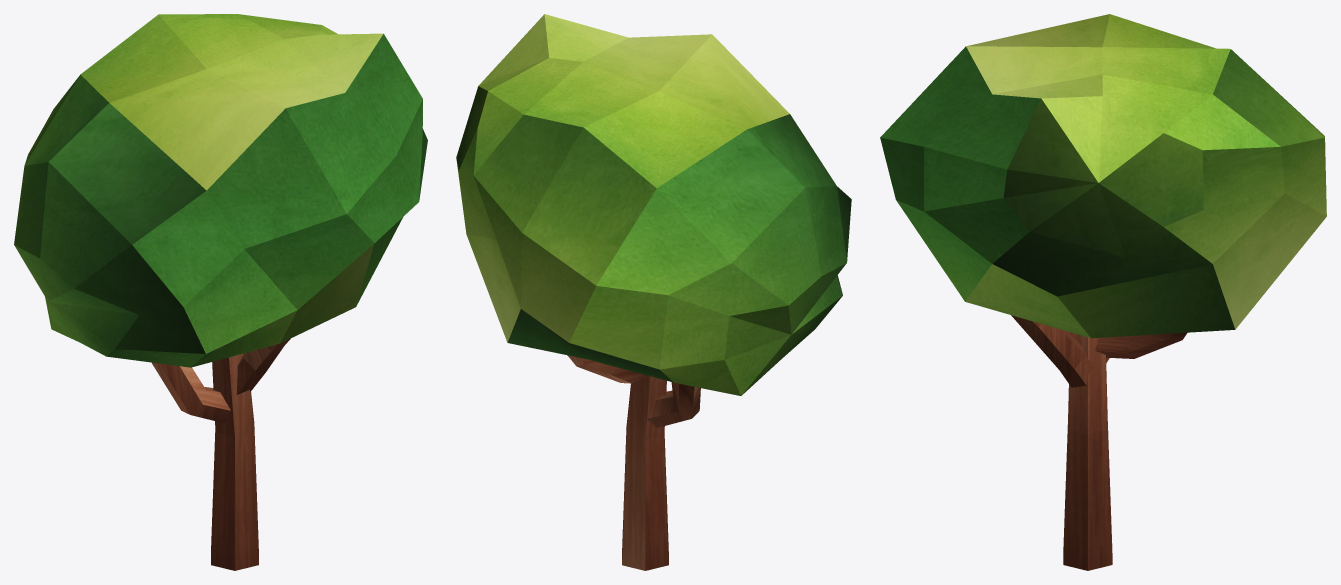
The model's file is Tree_v3.fbx.
The picture shows the model from 3 angles, left to right: view 1: azimuth 30°, elevation 25°; view 2: azimuth 150°, elevation 25°; view 3: azimuth 270°, elevation 25°; orthographic projection. The views are drawn at different scales.
Parts seen in each view (by area): view 1: Tree_v3; view 2: Tree_v3; view 3: Tree_v3.
Boxes of the visible parts, <box> form: Tree_v3: <box>14,14,427,570</box>; Tree_v3: <box>456,14,851,570</box>; Tree_v3: <box>880,14,1326,570</box>.
Bounding box in the file's own units: 5.1 × 7.05 × 5.46.
